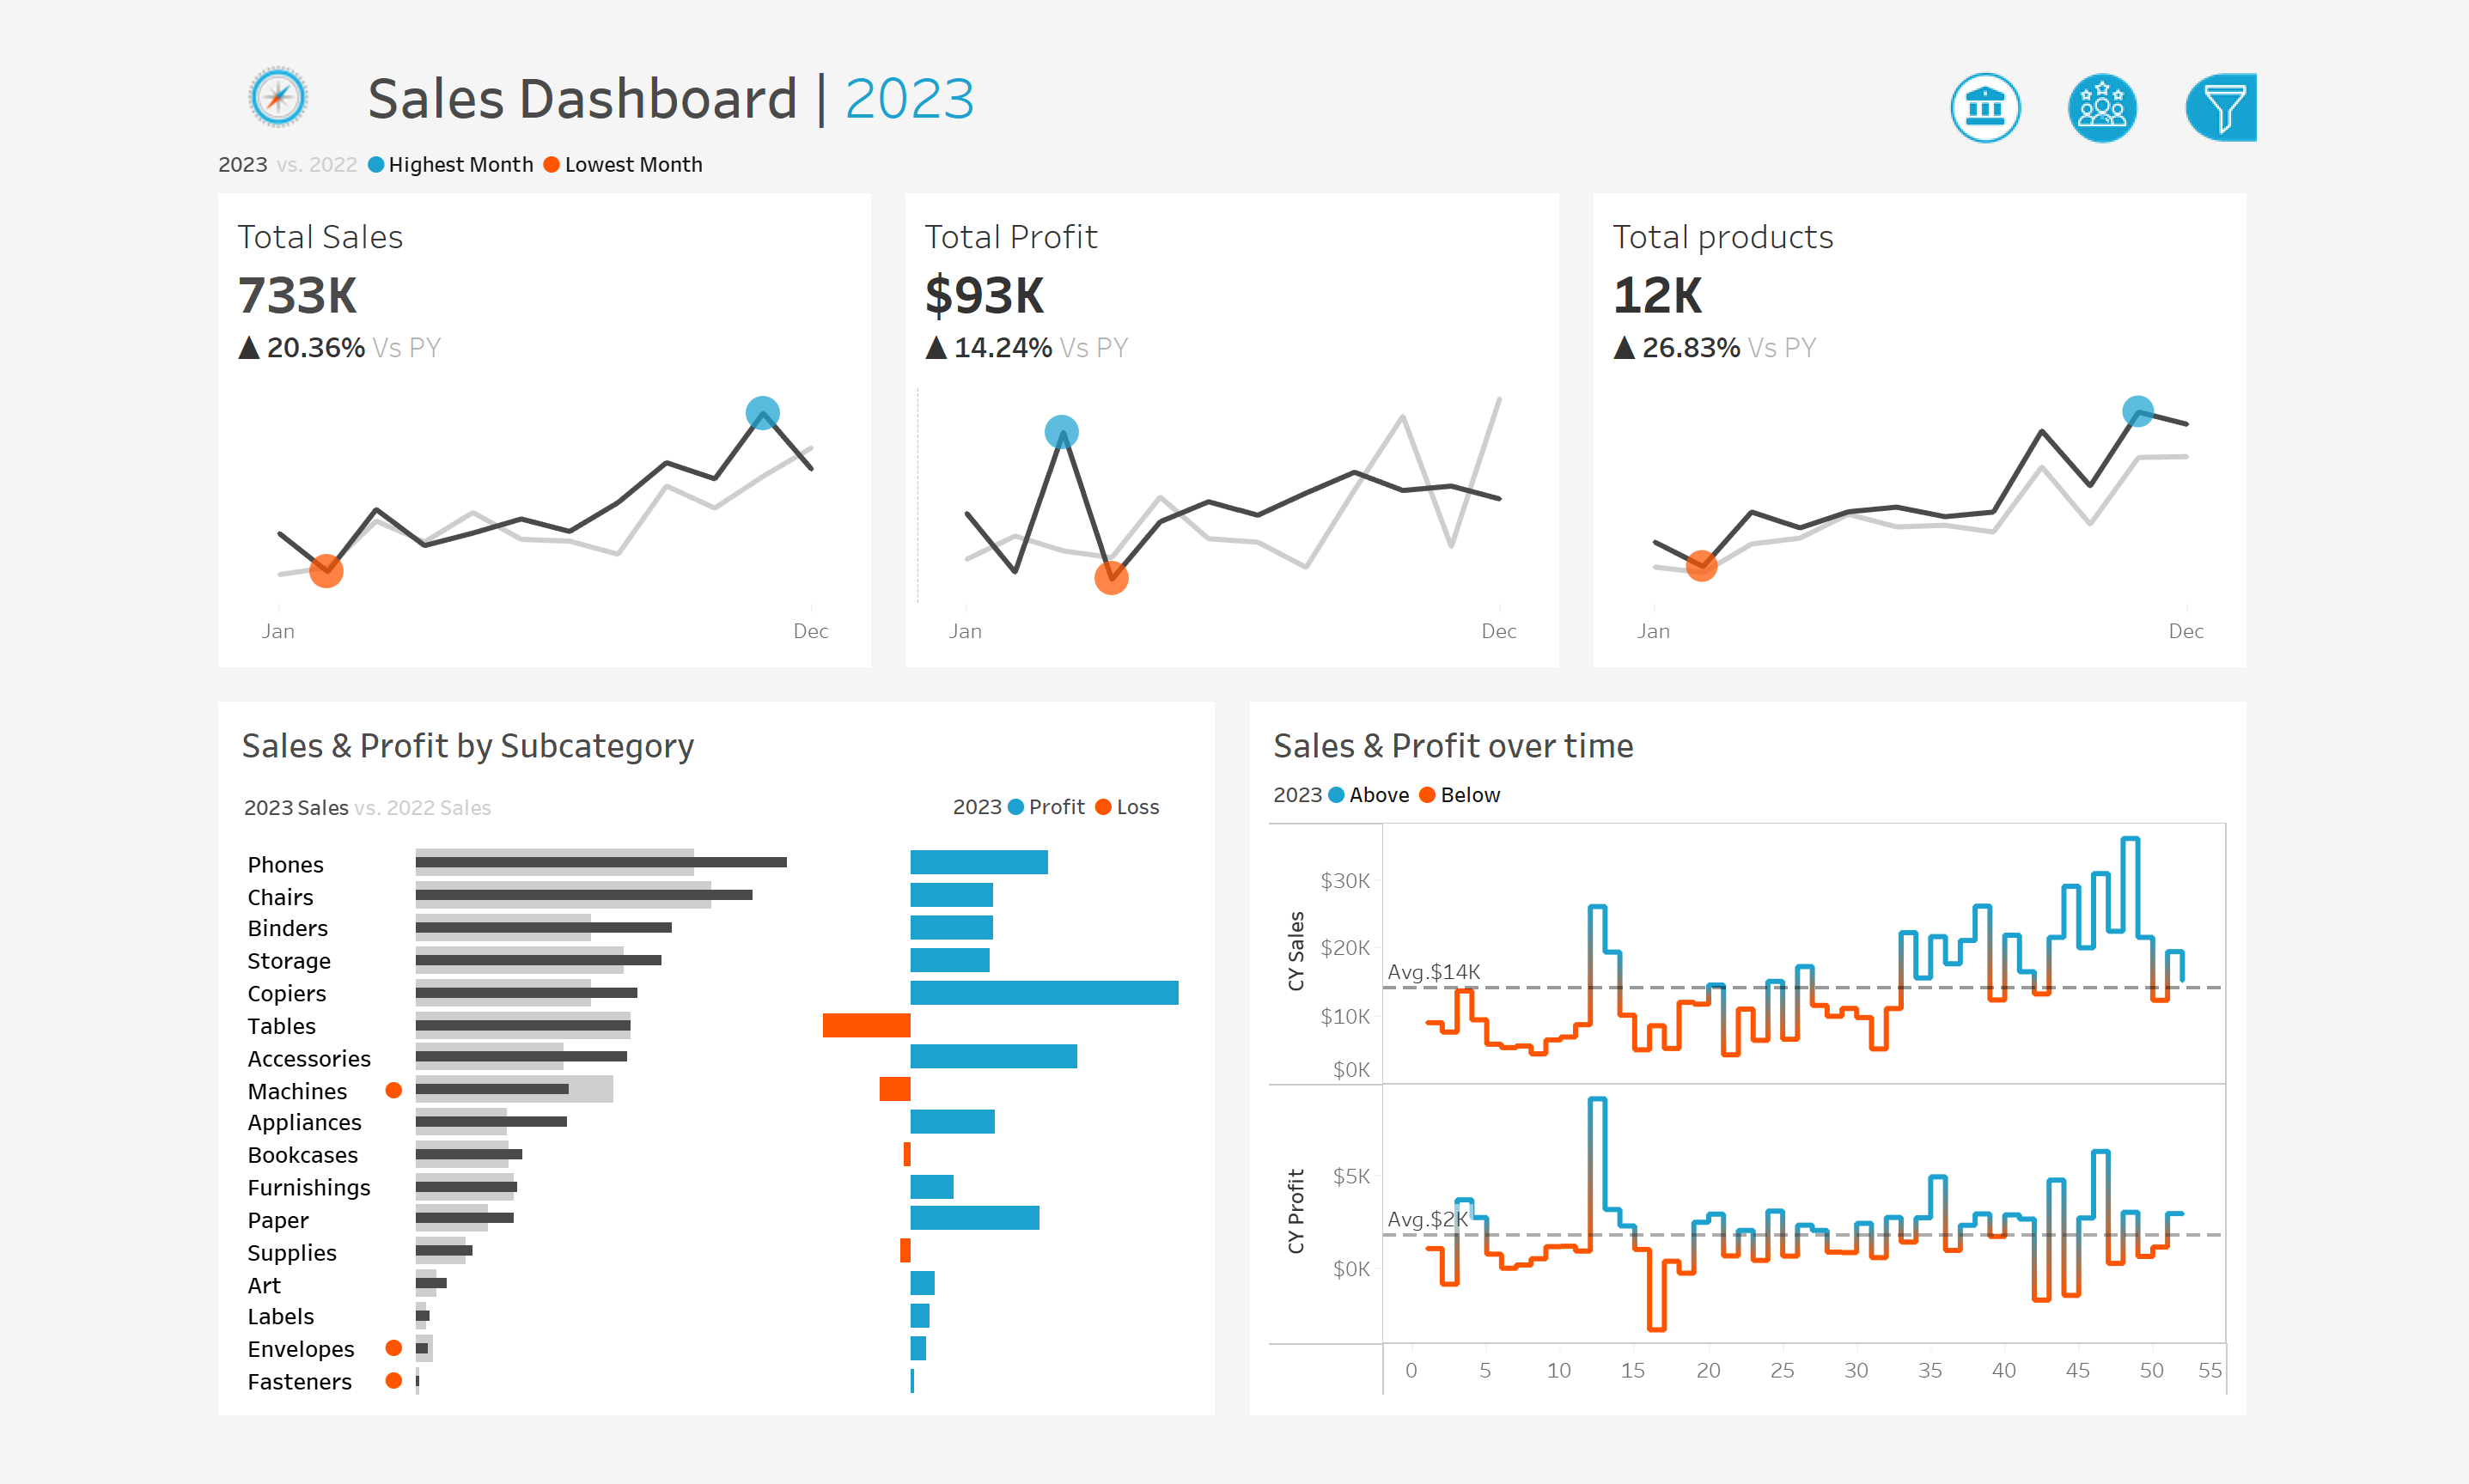

What the dashboard file says about the page in this screenshot:
{"tool":"tableau","page":{"name":"Sales Dashboard","canvas":[1200,800],"ordinal":1},"visuals":[{"type":"image","param":"D:/Tableau/Sales-Dashboard-Materials/Sales Dashboard Materials/Dashboard Icons/I","box":[0,0,90,45]},{"type":"text","box":[90,0,1110,45]},{"type":"blank","box":[1012,1,185,58]},{"type":"dashboard-object","box":[1004,4,68,50]},{"type":"dashboard-object","box":[1072,4,68,50]},{"type":"worksheet","title":"Legend KPI","mark":"Automatic","box":[0,45,1200,34]},{"type":"text","box":[1012,59,185,70]},{"type":"worksheet","title":"sales","mark":"Automatic","rows":["Calculation_389561374968635420","Calculation_389561374954057733"],"cols":["Order Date"],"box":[0,79,400,286]},{"type":"worksheet","title":"profit","mark":"Automatic","rows":["Calculation_389561374954303495"],"cols":["Order Date"],"box":[400,79,400,286]},{"type":"worksheet","title":"products","mark":"Automatic","rows":["Calculation_389561374954192902"],"cols":["Order Date"],"box":[800,79,400,286]},{"type":"parameter","param":"[Parameters].[Parameter 1]","box":[1012,129,185,54]},{"type":"blank","box":[1012,183,185,32]},{"type":"text","box":[1012,215,185,29]},{"type":"filter","title":"sales","param":"[federated.1m02wmj0p1rjup1f6yo0w1twdz23].[none:Category:nk]","box":[1012,244,185,52]},{"type":"filter","title":"sales","param":"[federated.1m02wmj0p1rjup1f6yo0w1twdz23].[none:Sub-Category:nk]","box":[1012,296,185,52]},{"type":"blank","box":[1012,348,185,32]},{"type":"text","box":[1012,380,185,29]},{"type":"text","box":[17,382,566,34]},{"type":"text","box":[617,382,566,34]},{"type":"filter","title":"sales","param":"[federated.1m02wmj0p1rjup1f6yo0w1twdz23].[none:Region:nk]","box":[1012,409,185,52]},{"type":"worksheet","title":"Legend sub category","mark":"Automatic","box":[17,416,414,39]},{"type":"text","box":[431,416,152,39]},{"type":"text","box":[617,416,566,25]},{"type":"worksheet","title":"Weekly Trends","mark":"Automatic","rows":["Calculation_389561374952747008","Calculation_389561374954598409"],"cols":["Order Date"],"box":[617,441,566,342]},{"type":"worksheet","title":"subcategory comparison","mark":"Bar","rows":["Sub-Category","Calculation_389561374978060318"],"cols":["Calculation_389561374953537537","Calculation_389561374952747008","Calculation_389561374954598409"],"box":[17,455,566,327.9]},{"type":"filter","title":"sales","param":"[federated.1m02wmj0p1rjup1f6yo0w1twdz23].[none:State:nk]","box":[1012,461,185,52]},{"type":"filter","title":"sales","param":"[federated.1m02wmj0p1rjup1f6yo0w1twdz23].[none:City:nk]","box":[1012,513,185,52]}]}

Visuals, with their boxes on the page's 1200x800 design canvas (x1, y1, x2, y2). These are canvas units, not pixel positions in the 2469x1484 screenshot, which may show the page scaled, cropped or inside an application window:
image: (left=0, top=0, right=90, bottom=45)
text: (left=90, top=0, right=1200, bottom=45)
blank: (left=1012, top=1, right=1197, bottom=59)
dashboard-object: (left=1004, top=4, right=1072, bottom=54)
dashboard-object: (left=1072, top=4, right=1140, bottom=54)
"Legend KPI" worksheet: (left=0, top=45, right=1200, bottom=79)
text: (left=1012, top=59, right=1197, bottom=129)
"sales" worksheet: (left=0, top=79, right=400, bottom=365)
"profit" worksheet: (left=400, top=79, right=800, bottom=365)
"products" worksheet: (left=800, top=79, right=1200, bottom=365)
parameter: (left=1012, top=129, right=1197, bottom=183)
blank: (left=1012, top=183, right=1197, bottom=215)
text: (left=1012, top=215, right=1197, bottom=244)
"sales" filter: (left=1012, top=244, right=1197, bottom=296)
"sales" filter: (left=1012, top=296, right=1197, bottom=348)
blank: (left=1012, top=348, right=1197, bottom=380)
text: (left=1012, top=380, right=1197, bottom=409)
text: (left=17, top=382, right=583, bottom=416)
text: (left=617, top=382, right=1183, bottom=416)
"sales" filter: (left=1012, top=409, right=1197, bottom=461)
"Legend sub category" worksheet: (left=17, top=416, right=431, bottom=455)
text: (left=431, top=416, right=583, bottom=455)
text: (left=617, top=416, right=1183, bottom=441)
"Weekly Trends" worksheet: (left=617, top=441, right=1183, bottom=783)
"subcategory comparison" worksheet (Bar marks): (left=17, top=455, right=583, bottom=783)
"sales" filter: (left=1012, top=461, right=1197, bottom=513)
"sales" filter: (left=1012, top=513, right=1197, bottom=565)
